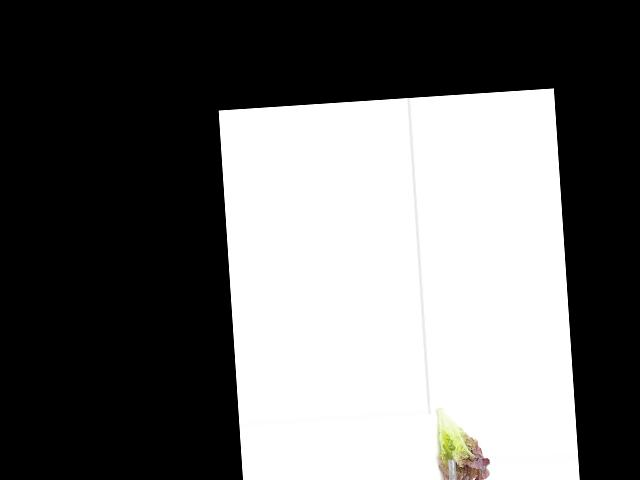lettuce: (430, 401, 492, 480)
